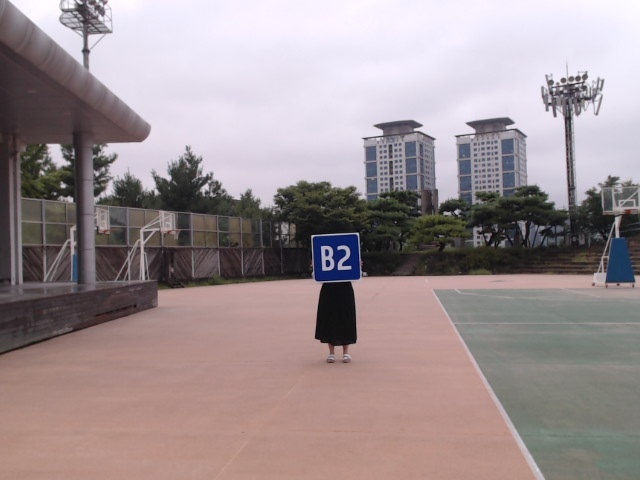delivery_b2: (312, 234, 361, 282)
